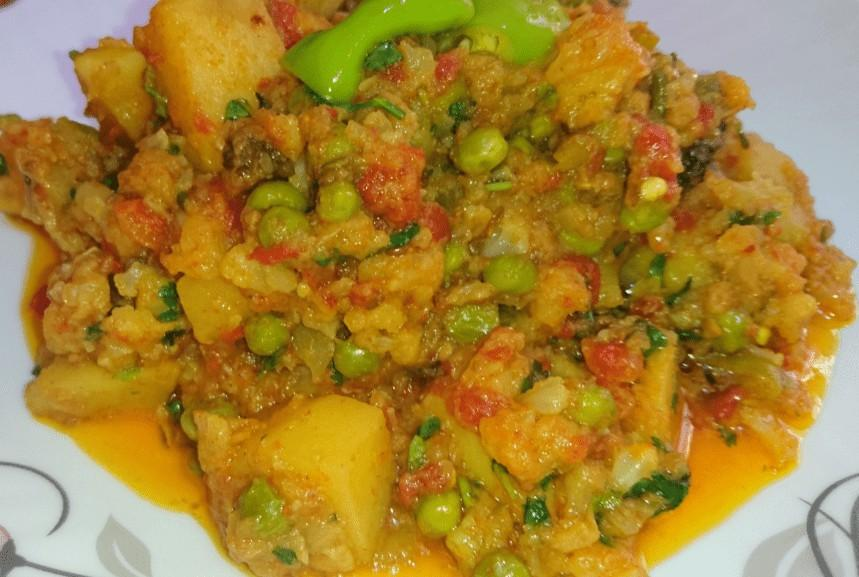AlooGobi: (3, 1, 859, 577)
